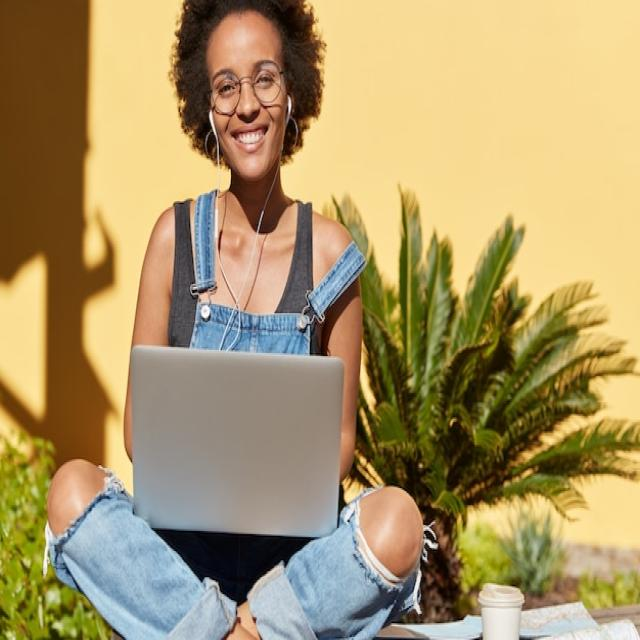Earphone: (207, 92, 293, 349)
